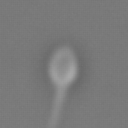normal: (43, 86, 70, 127)
